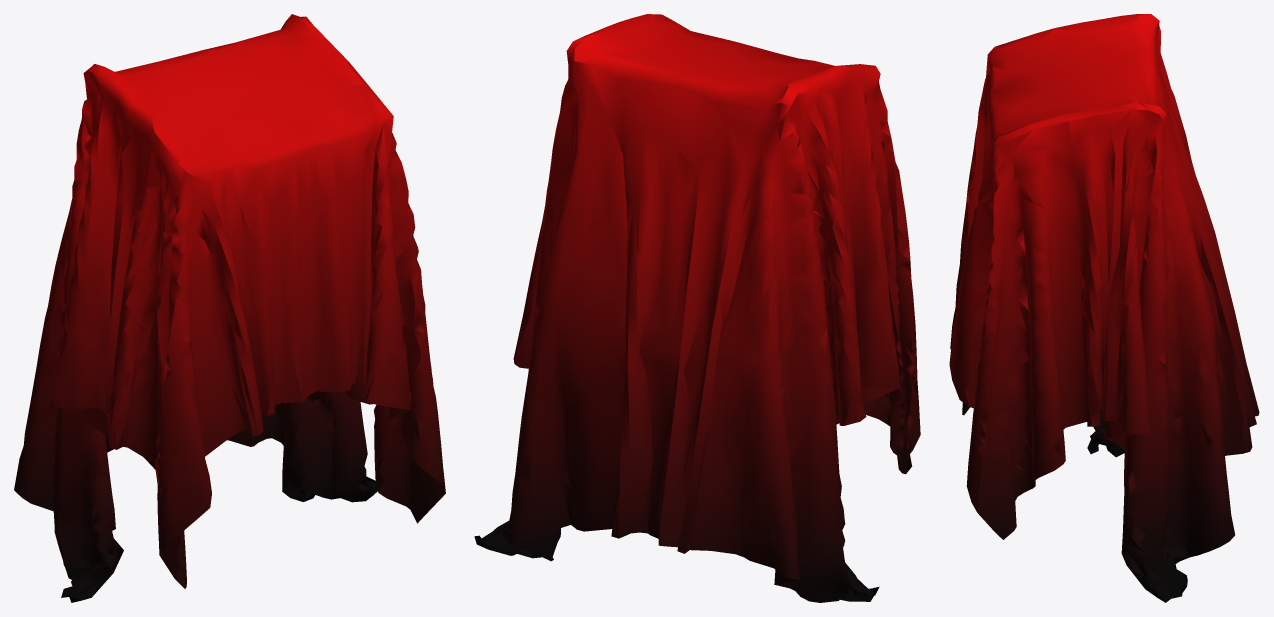
The model's file is SM_PolyCab_Cover.fbx.
3 views of the same model, side by side, from view 1: azimuth 30°, elevation 25°; view 2: azimuth 150°, elevation 25°; view 3: azimuth 270°, elevation 25° (orthographic). The views are drawn at different scales.
Parts seen in each view (by area): view 1: normal1; view 2: normal1; view 3: normal1.
Boxes of the visible parts, <box> form: normal1: <box>14,14,445,602</box>; normal1: <box>474,14,920,602</box>; normal1: <box>949,14,1259,602</box>.
Size of the model in its own units: 135 by 183 by 112.
